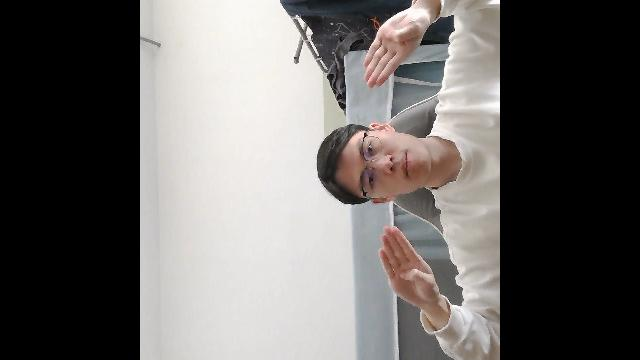four: (361, 4, 433, 93), (376, 222, 440, 310)
